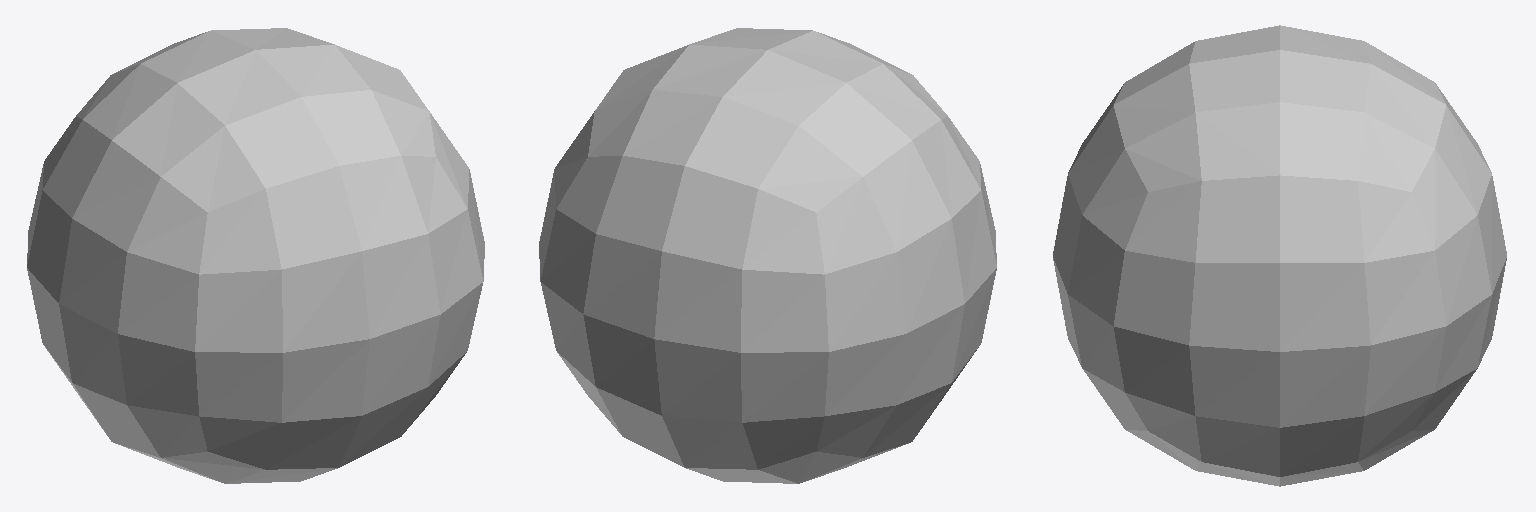
Rendered from primitive_sphere_cube.obj.
3 renders of one model, left to right at view 1: azimuth 30°, elevation 25°; view 2: azimuth 150°, elevation 25°; view 3: azimuth 270°, elevation 25°, orthographic.
Parts seen in each view (by area): view 1: sphere_cube; view 2: sphere_cube; view 3: sphere_cube.
Part boxes in pixels (bbox=[...]): sphere_cube: bbox=[27, 28, 484, 483]; sphere_cube: bbox=[539, 28, 996, 483]; sphere_cube: bbox=[1053, 25, 1506, 486].
Size of the model in its own units: 1.98 by 1.98 by 1.98.